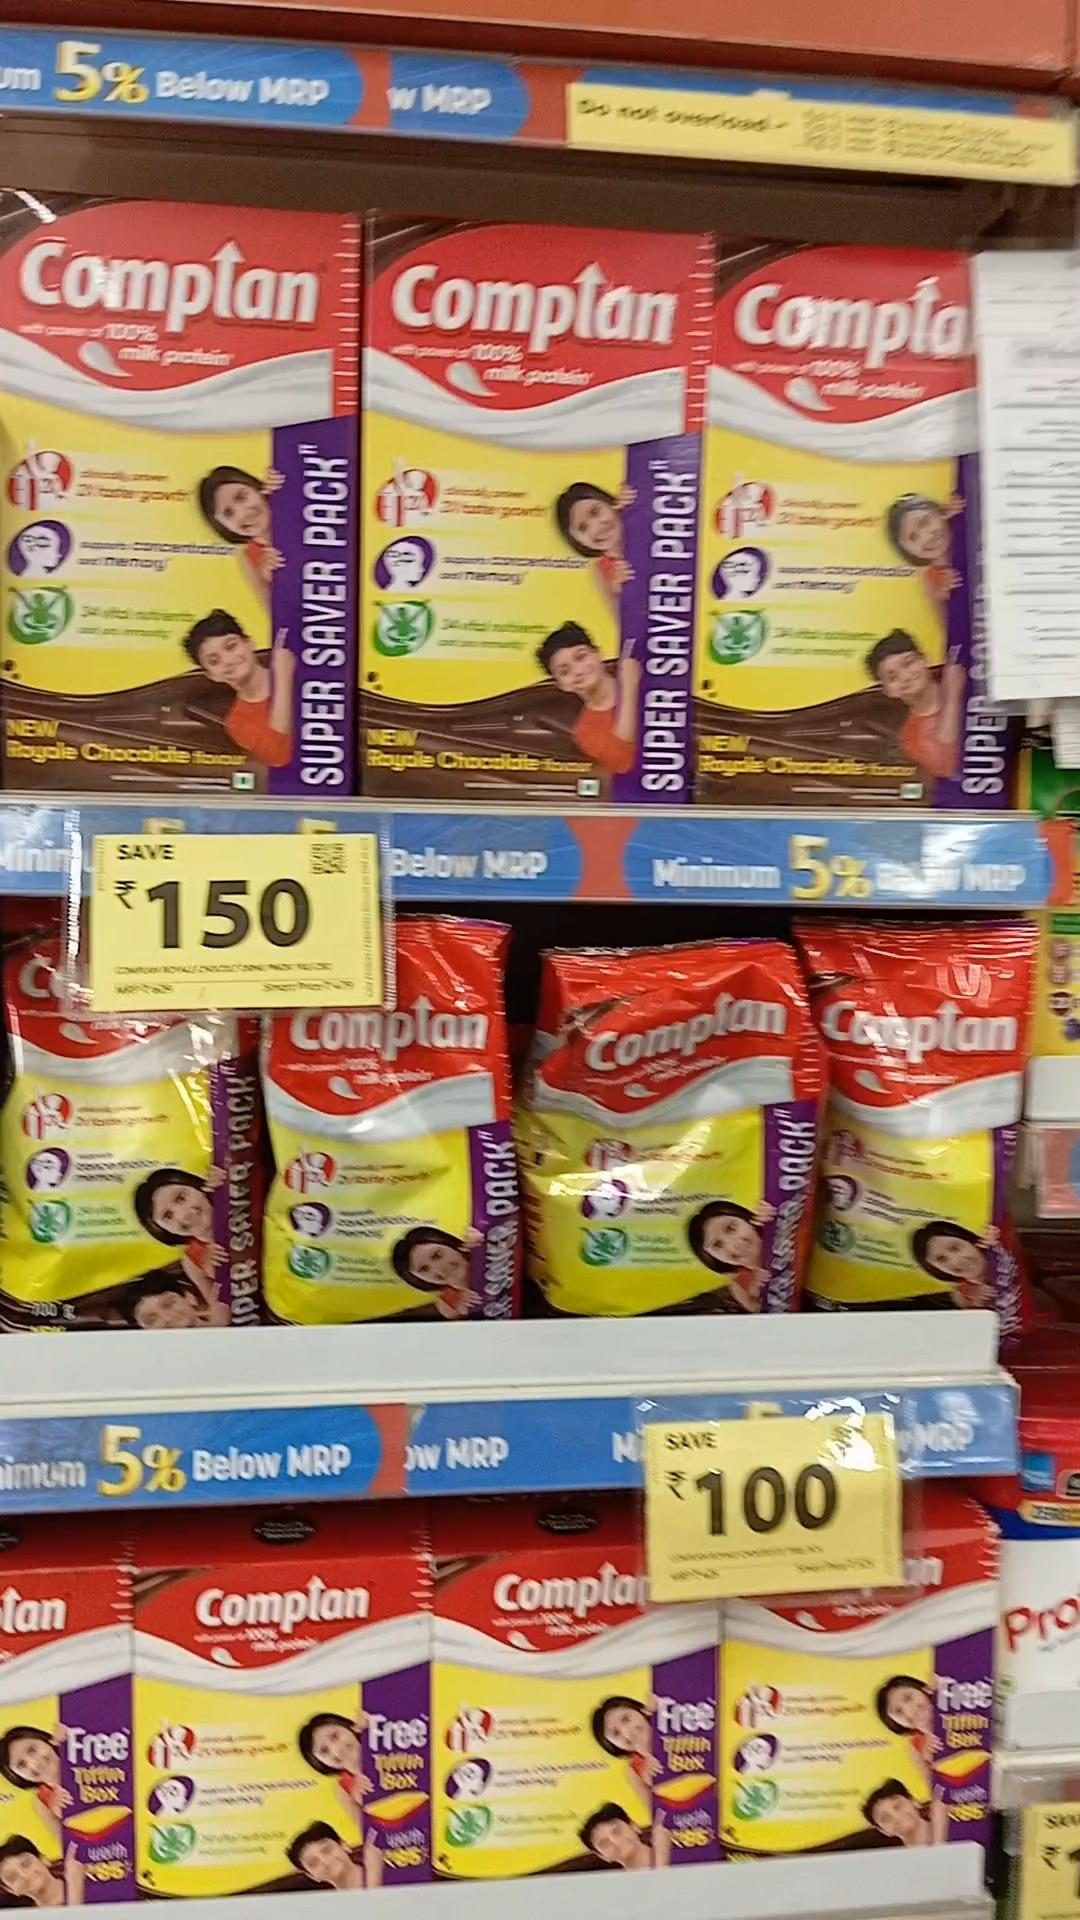COMPLAN_CHOCOLATE_1_KG_PACK: (1, 207, 353, 795), (363, 218, 687, 799), (696, 239, 984, 803)
COMPLAN_CHOCOLATE_500_GMS_PACK: (140, 1556, 430, 1890), (440, 1569, 715, 1876), (725, 1598, 985, 1845)
COMPLAN_RC_POUCH_700_GMS_12: (538, 939, 816, 1311), (265, 1011, 518, 1323), (7, 1013, 256, 1325), (824, 926, 1026, 1304)
